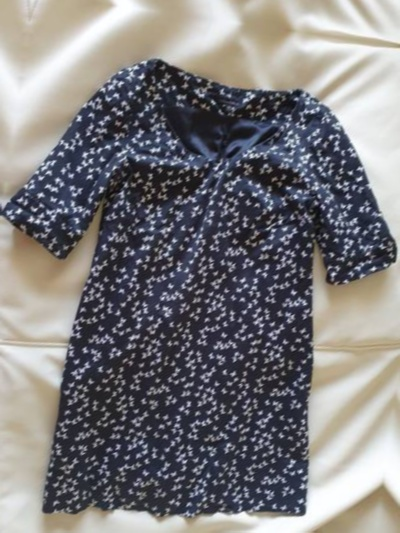Dress: (0, 28, 400, 533), (0, 0, 26, 517), (379, 87, 400, 533), (40, 0, 400, 18)
